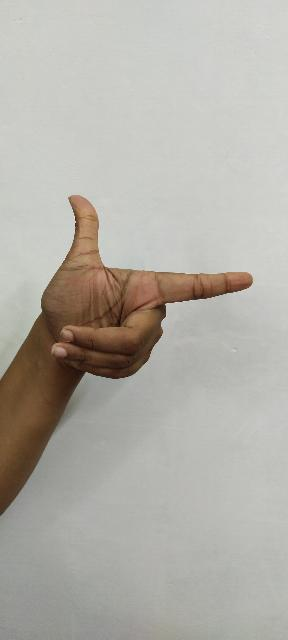chandrakala: (41, 184, 273, 393)
